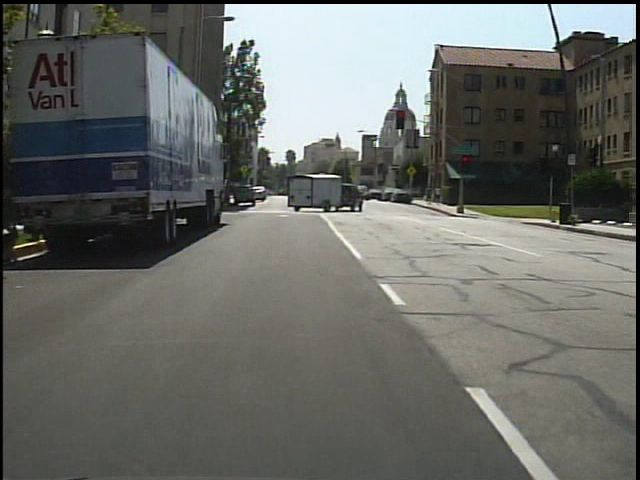person: (433, 184, 445, 210), (424, 185, 435, 209)
